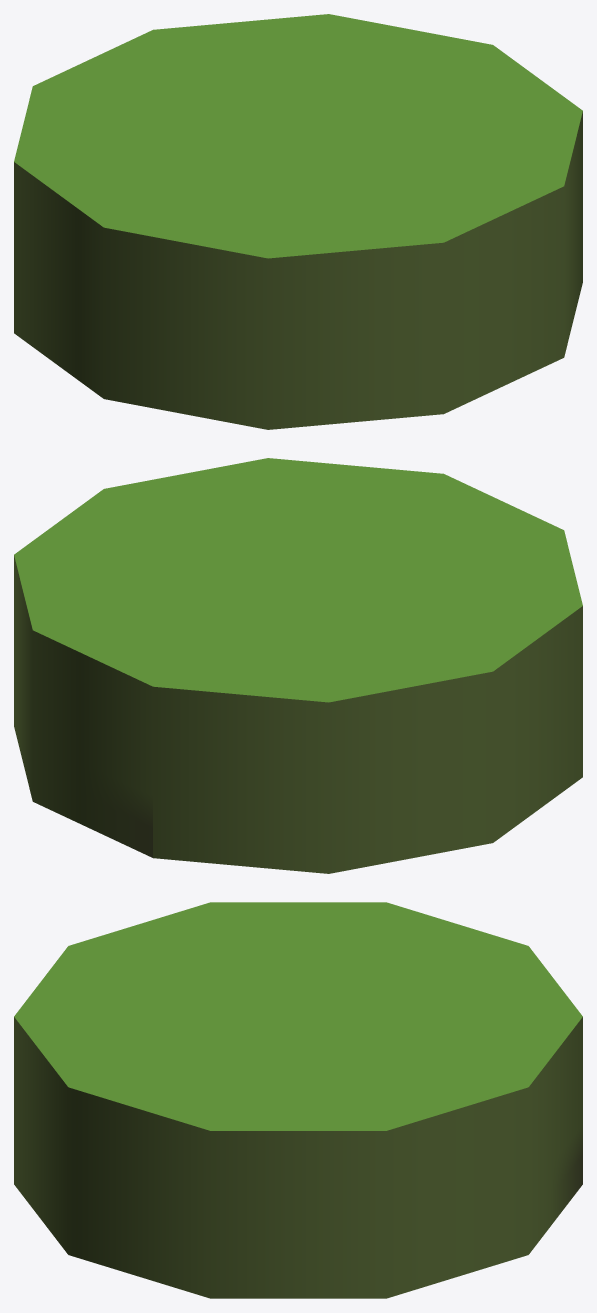
3 renders of one model, top to bottom at view 1: azimuth 30°, elevation 25°; view 2: azimuth 150°, elevation 25°; view 3: azimuth 270°, elevation 25°, orthographic. The views are drawn at different scales.
Visible parts, largest first — view 1: Circle; view 2: Circle; view 3: Circle.
Boxes of the visible parts, <box> form: Circle: <box>14,14,582,429</box>; Circle: <box>14,458,582,873</box>; Circle: <box>14,902,582,1298</box>.
Size of the model in its own units: 47.29 by 16.17 by 49.73.
Materials: 1 (1 with a texture image).
